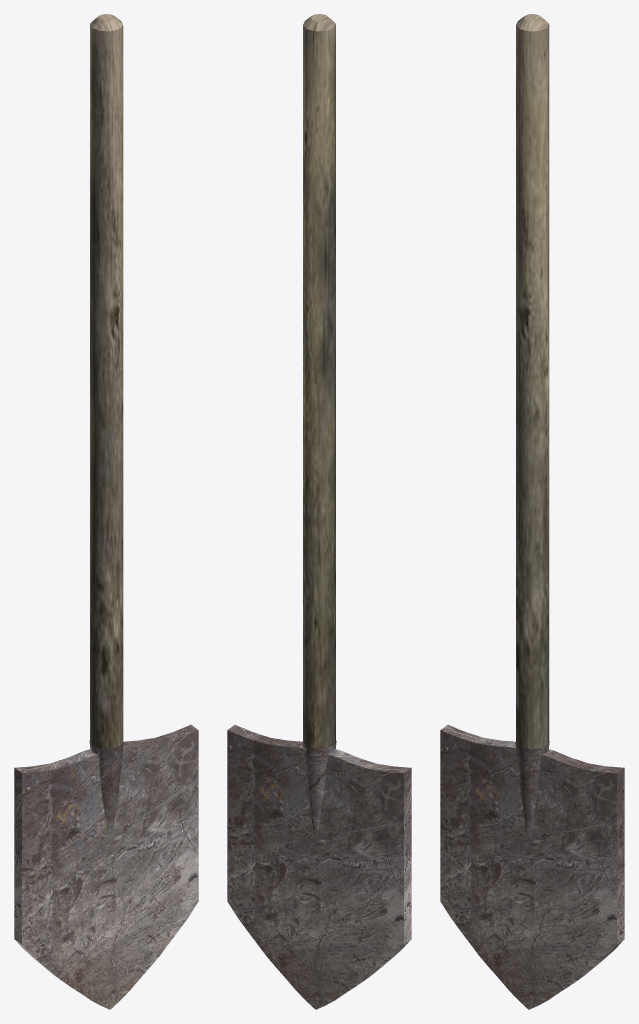
File: Shovel.FBX
3 views of the same model, side by side, from view 1: azimuth 30°, elevation 25°; view 2: azimuth 150°, elevation 25°; view 3: azimuth 330°, elevation 25° (orthographic).
Parts seen in each view (by area): view 1: Box001, Shovel; view 2: Box001, Shovel; view 3: Box001, Shovel.
Part boxes in pixels (x1,y1,x2,y2): Box001: (14,725,198,1009); Shovel: (90,14,123,748); Box001: (227,725,411,1009); Shovel: (303,14,335,748); Box001: (440,725,624,1009); Shovel: (516,14,549,748).
Size of the model in its own units: 32.3 by 173 by 5.2.
1 material, 1 textured.
